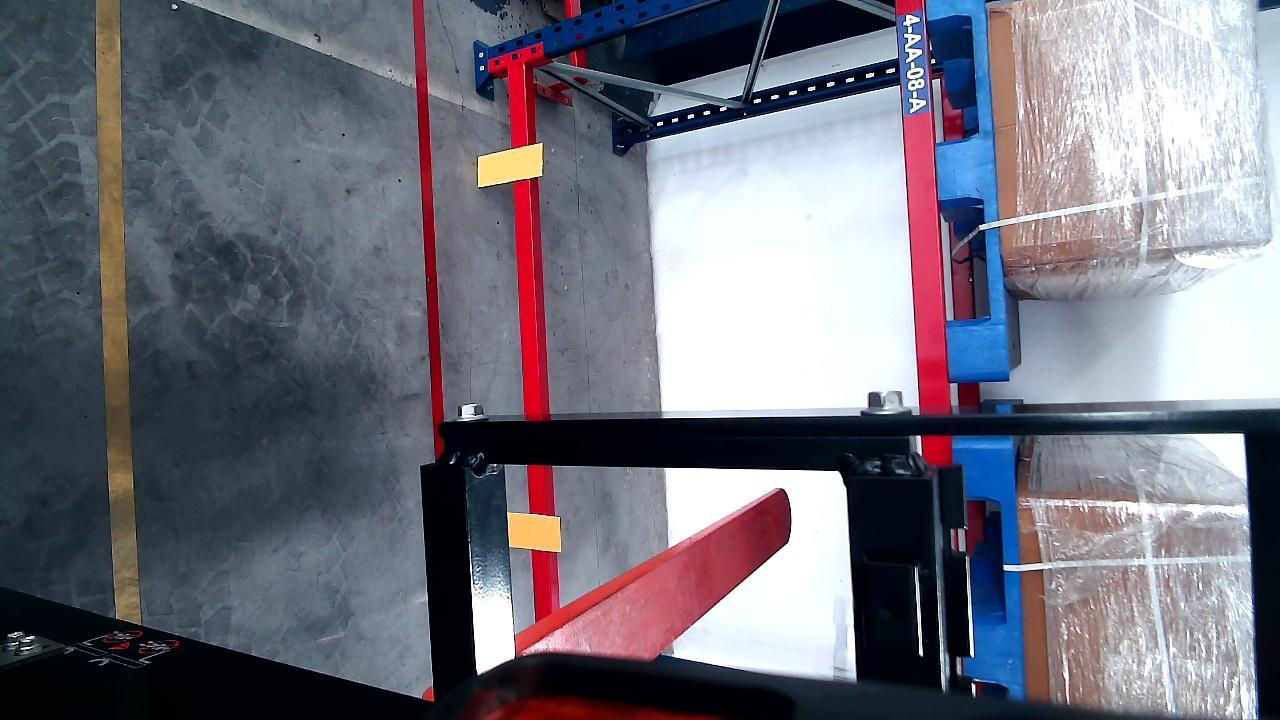red_line: (414, 0, 448, 436)
yellow_line: (95, 0, 140, 626)
